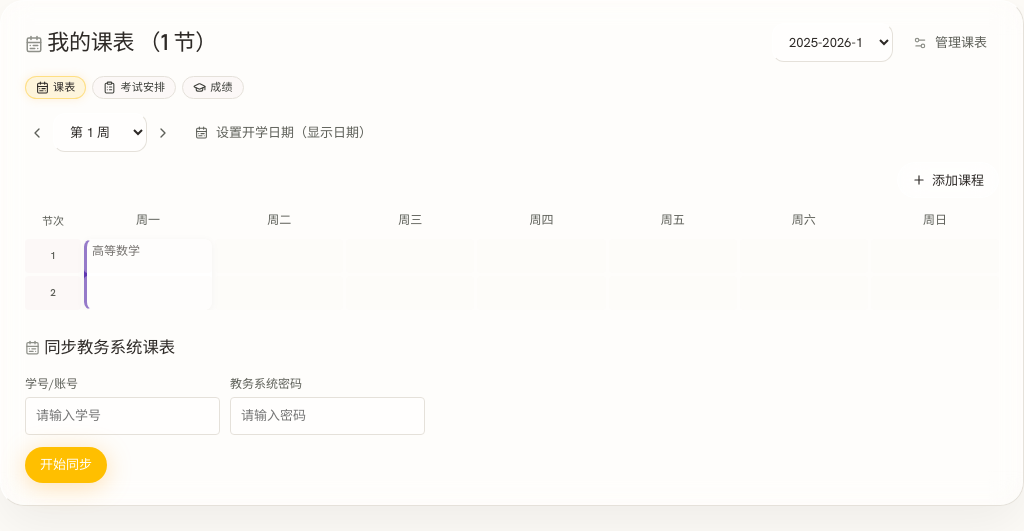
TimetablePage 学期固定本学期 › 切到旧学期可单独查看（该学期无课 → 0 节，证明未混排）
Expected: the heading "我的课表 （1 节）" is shown, x1=25 y1=26 x2=217 y2=59
Select "2024-2025-1" in the dropdown titled "切换学期（课表 / 考试 / 成绩同步切换）" at (832, 42), box x1=772 y1=23 x2=893 y2=62
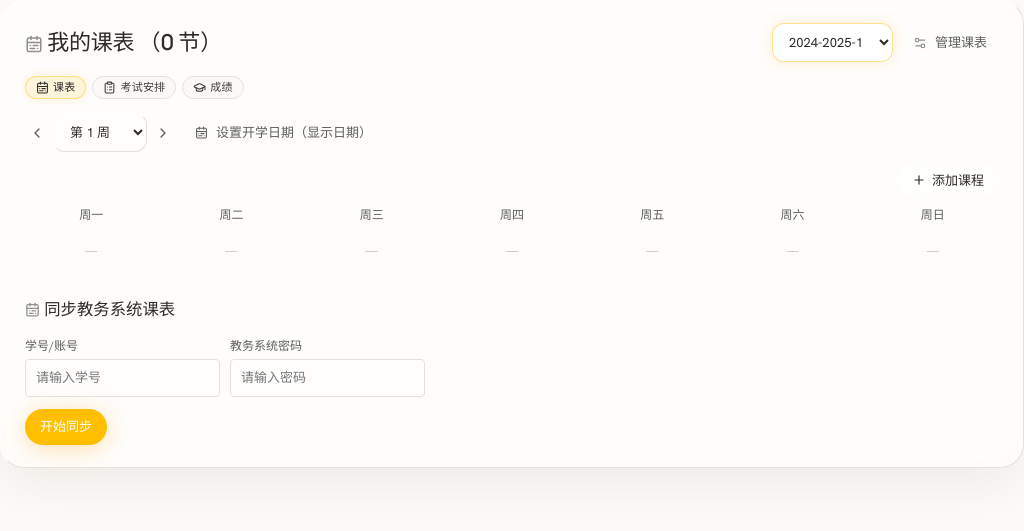
Result: the heading "我的课表 （0 节）" is shown at x1=25 y1=26 x2=222 y2=59
